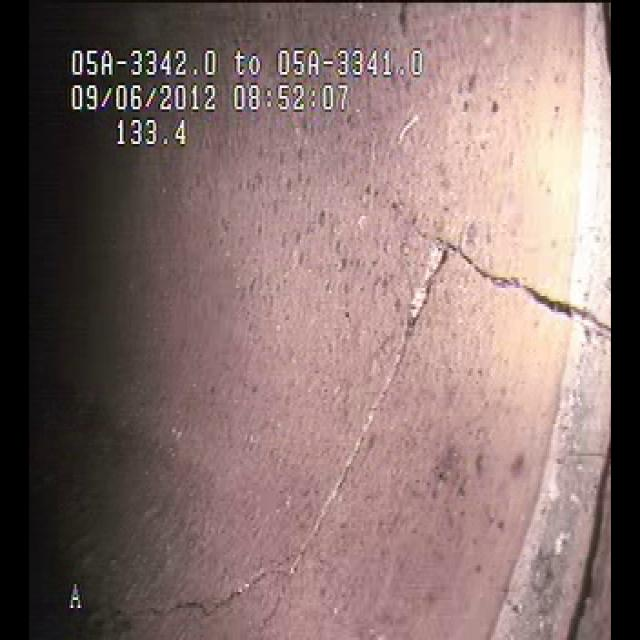Crack: (187, 165, 597, 619)
